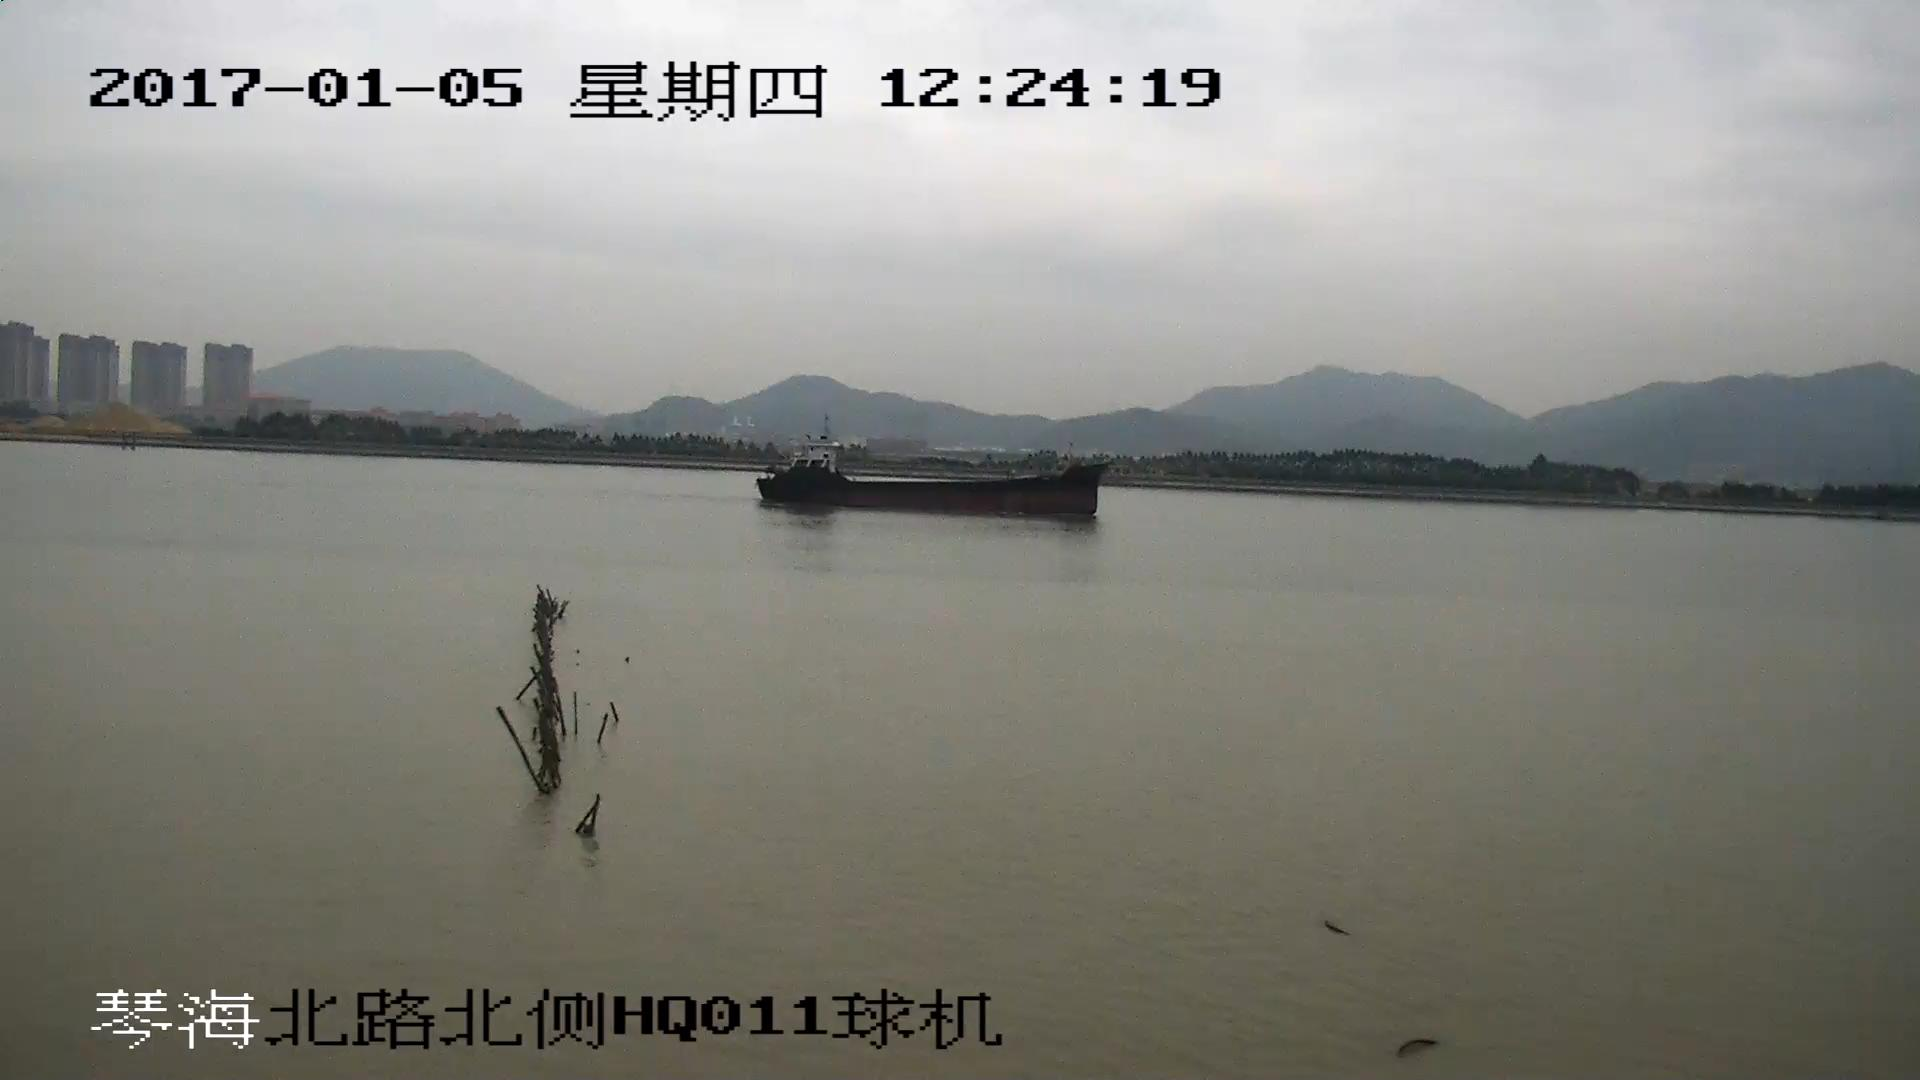general cargo ship: (751, 441, 1108, 518)
